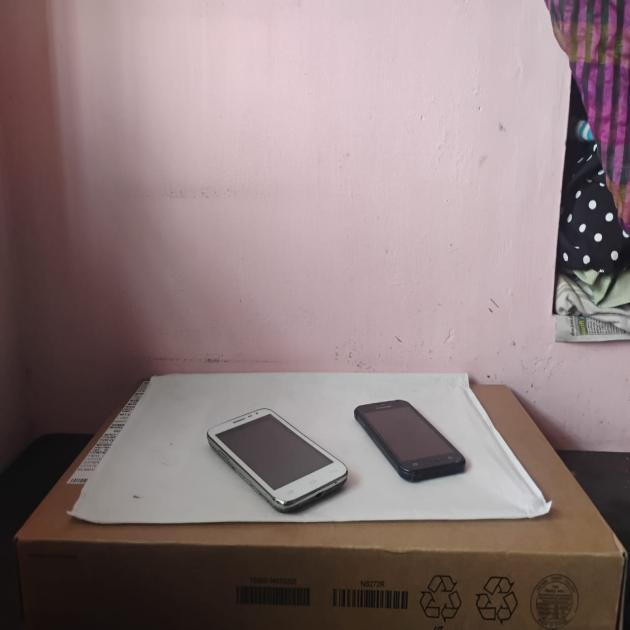phone: (205, 418, 349, 519), (358, 407, 466, 483)
